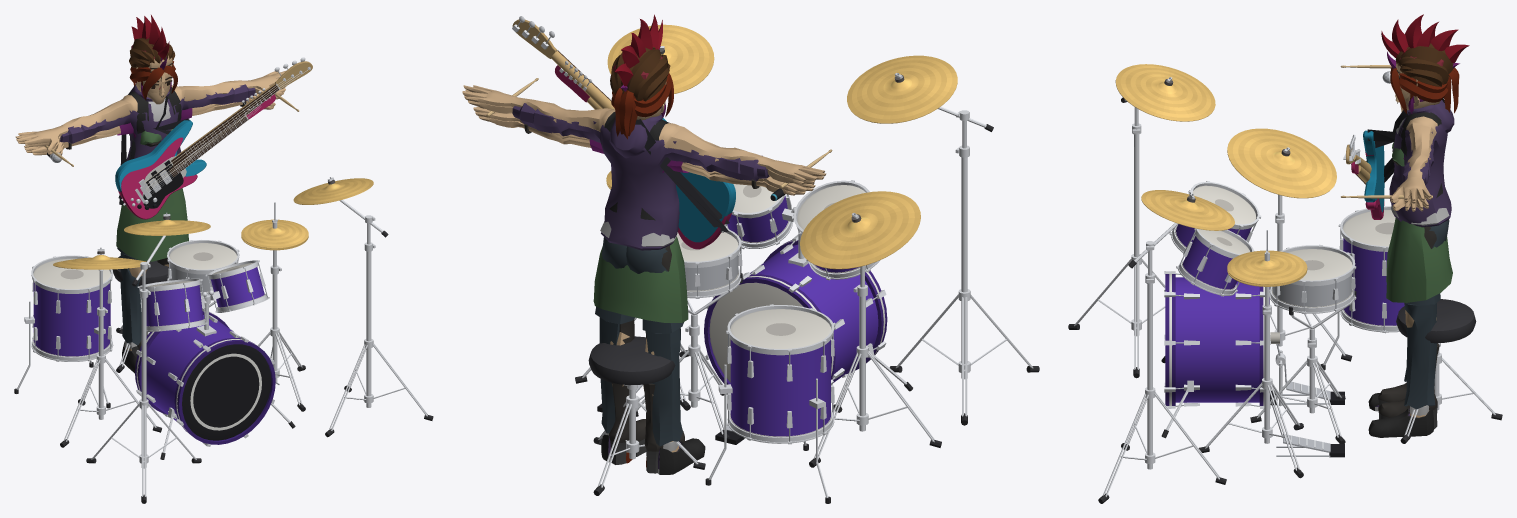
File: band.glb
3 renders of one model, left to right at view 1: azimuth 30°, elevation 25°; view 2: azimuth 150°, elevation 25°; view 3: azimuth 270°, elevation 25°, orthographic. The views are drawn at different scales.
Parts seen in each view (by area): view 1: kick, riff, pulse, aria; view 2: kick, riff, pulse, aria; view 3: kick, riff, aria, pulse.
Boxes of the visible parts, x1,y1,x2,y2 form: kick: [14, 38, 433, 503]; riff: [15, 15, 286, 373]; pulse: [26, 56, 312, 350]; aria: [24, 61, 286, 275]; kick: [464, 24, 1039, 503]; riff: [462, 14, 826, 474]; pulse: [475, 16, 813, 473]; aria: [473, 73, 815, 467]; kick: [1068, 43, 1502, 503]; riff: [1351, 14, 1469, 437]; aria: [1382, 67, 1459, 320]; pulse: [1343, 51, 1459, 429].
Size of the model in its own units: 1.85 by 1.97 by 1.91.
